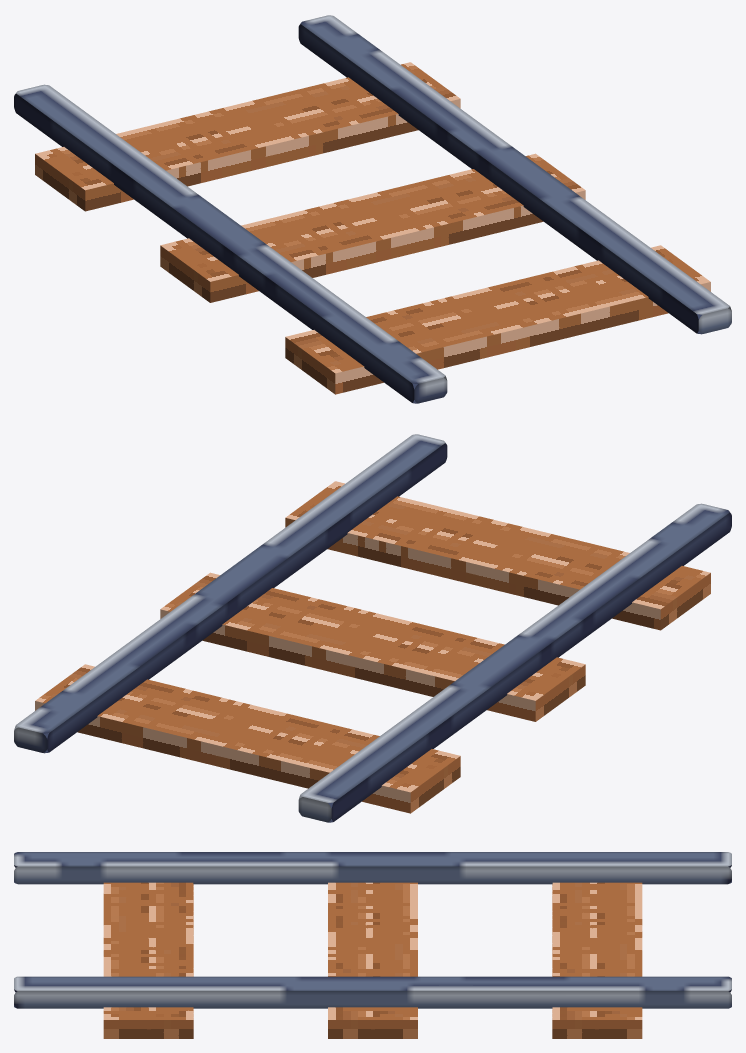
The model's file is DuongRay.fbx.
3 renders of one model, top to bottom at view 1: azimuth 30°, elevation 25°; view 2: azimuth 150°, elevation 25°; view 3: azimuth 270°, elevation 25°, orthographic. The views are drawn at different scales.
Visible parts, largest first — view 1: DuongRay, ThanhRay, ThanhRay_2, ThanhRay_1; view 2: DuongRay, ThanhRay, ThanhRay_1, ThanhRay_2; view 3: DuongRay, ThanhRay_1, ThanhRay_2, ThanhRay.
Part boxes in pixels (<box>): DuongRay: <box>14,15,731,403</box>; ThanhRay: <box>160,153,585,302</box>; ThanhRay_2: <box>285,245,710,394</box>; ThanhRay_1: <box>35,62,460,211</box>; DuongRay: <box>14,434,731,822</box>; ThanhRay: <box>160,572,585,721</box>; ThanhRay_1: <box>35,664,460,813</box>; ThanhRay_2: <box>285,481,710,630</box>; DuongRay: <box>14,852,731,1008</box>; ThanhRay_1: <box>552,882,642,1038</box>; ThanhRay_2: <box>103,882,193,1038</box>; ThanhRay: <box>328,882,417,1038</box>.
Size of the model in its own units: 162 by 16.25 by 300.
Materials: 2 (2 with a texture image).
